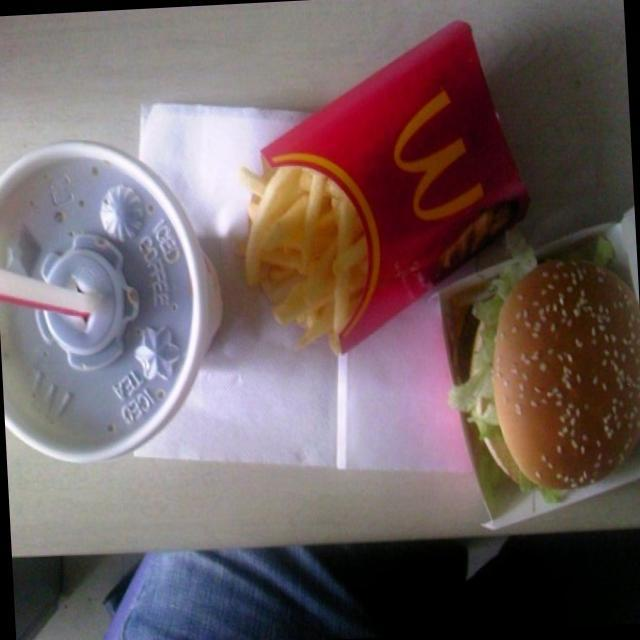Hamburger: (454, 243, 640, 509)
